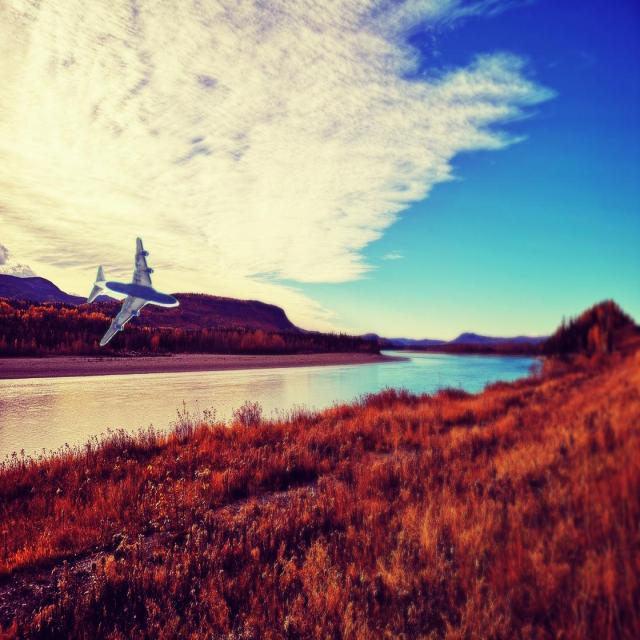airplane: (87, 236, 179, 346)
